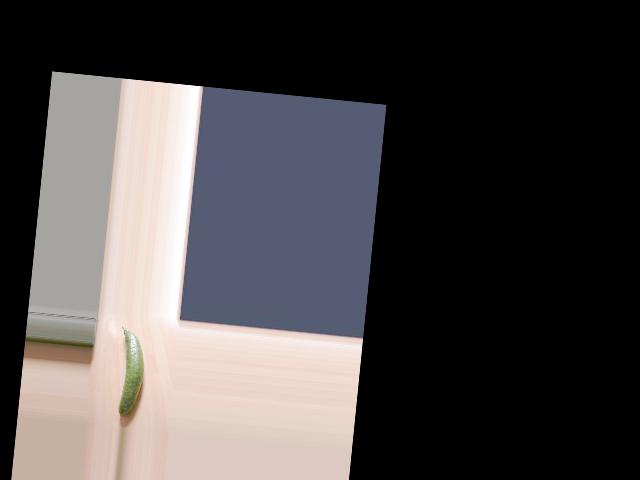cucumber: (113, 325, 149, 419)
